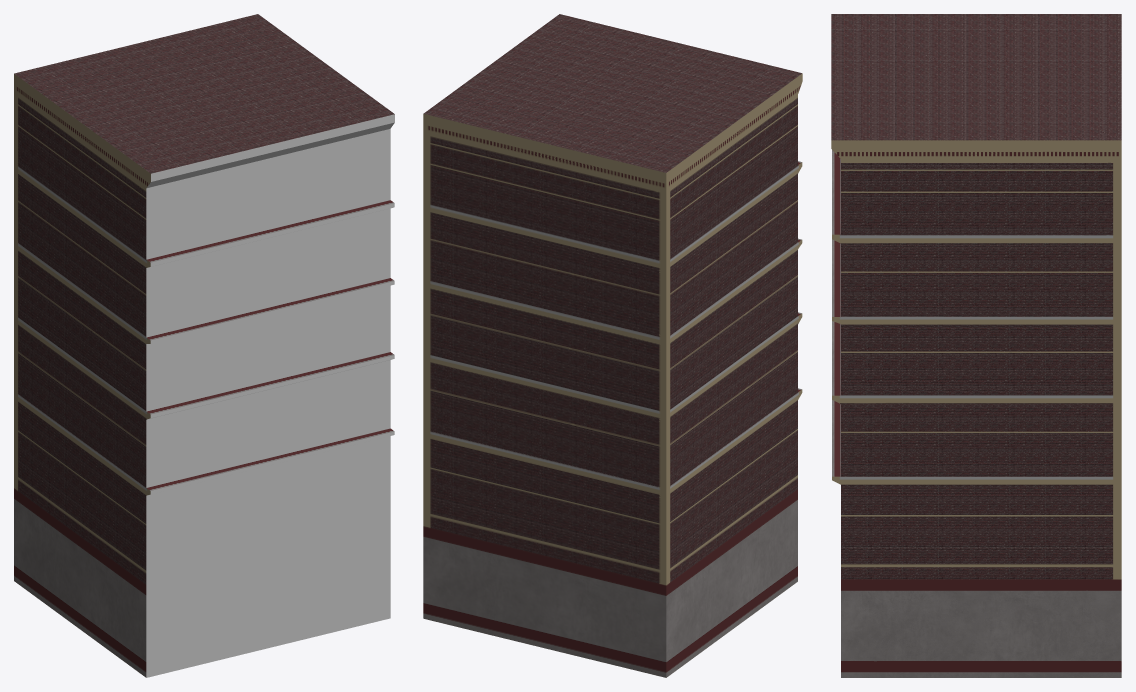
File: building_02 (1).fbx
3 views of the same model, side by side, from view 1: azimuth 30°, elevation 25°; view 2: azimuth 150°, elevation 25°; view 3: azimuth 270°, elevation 25° (orthographic). The views are drawn at different scales.
Visible parts, largest first — view 1: Box001; view 2: Box001; view 3: Box001.
Boxes of the visible parts, bbox=[...] form: Box001: bbox=[14, 14, 394, 677]; Box001: bbox=[423, 14, 802, 677]; Box001: bbox=[831, 14, 1121, 677].
Bounding box in the file's own units: 335 × 665 × 325.
